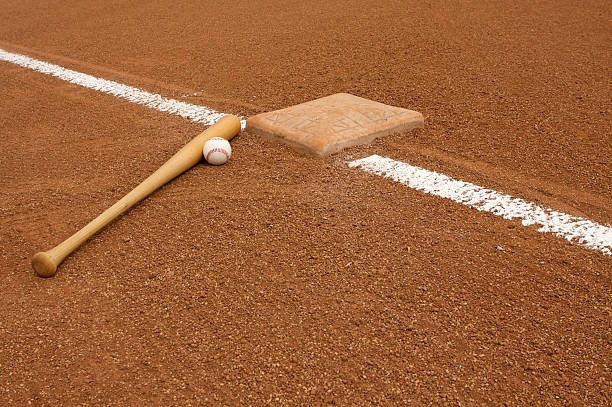bita: (30, 117, 239, 279)
